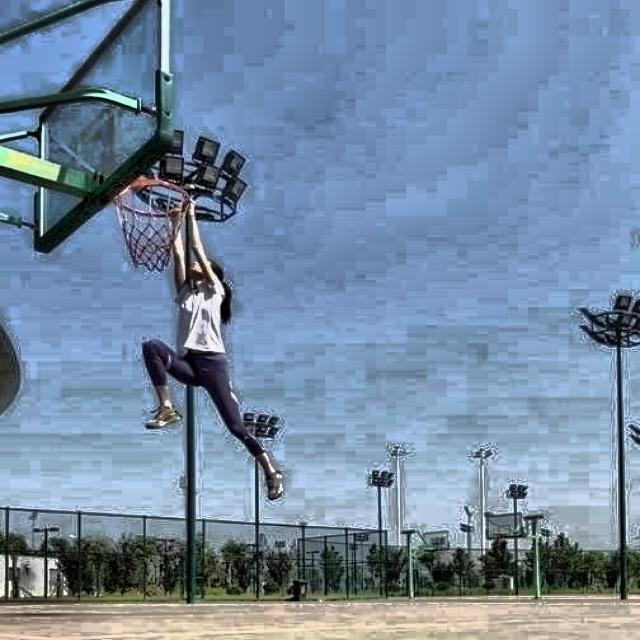rim: (115, 179, 188, 270)
